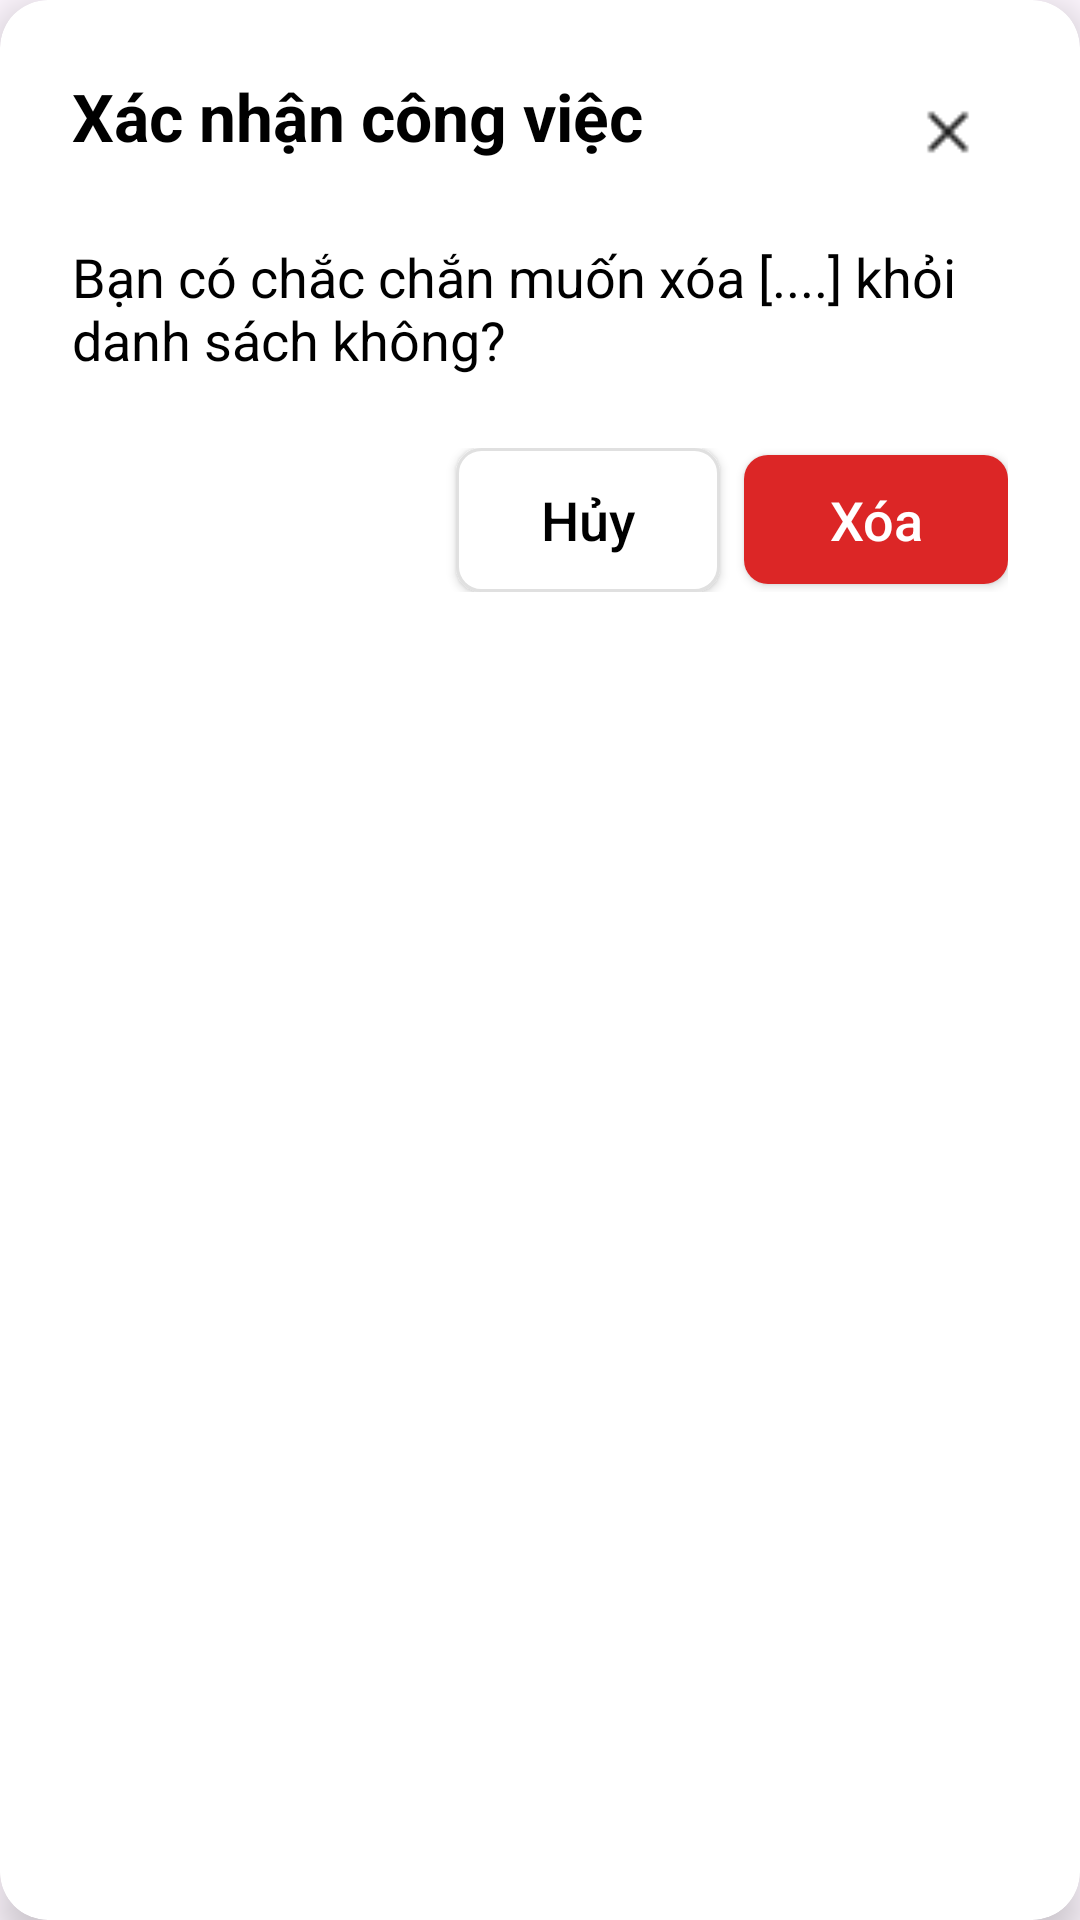

Icons on this 1080×1920 Android screen, each with the point to tap as point (x, y):
close: point (948, 132)
